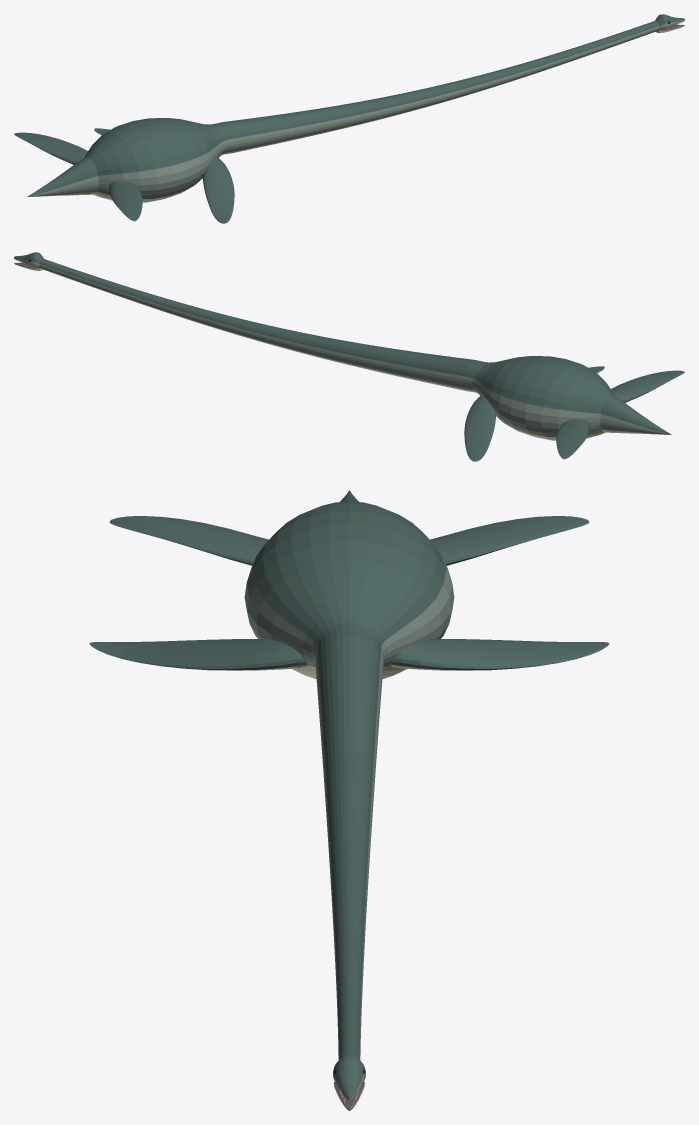
The picture shows the model from 3 angles, top to bottom: view 1: azimuth 30°, elevation 25°; view 2: azimuth 150°, elevation 25°; view 3: azimuth 270°, elevation 25°; orthographic projection. The views are drawn at different scales.
Parts seen in each view (by area): view 1: Extreme_neck_short_broad_trunk_and_conservative_tail, Comparatively_inferred_fore_hydrofoil_near, Comparatively_inferred_hind_hydrofoil_far, Comparatively_inferred_hind_hydrofoil_near; view 2: Extreme_neck_short_broad_trunk_and_conservative_tail, Comparatively_inferred_fore_hydrofoil_far, Comparatively_inferred_hind_hydrofoil_near, Comparatively_inferred_hind_hydrofoil_far; view 3: Extreme_neck_short_broad_trunk_and_conservative_tail, Comparatively_inferred_fore_hydrofoil_far, Comparatively_inferred_fore_hydrofoil_near, Comparatively_inferred_hind_hydrofoil_far, Comparatively_inferred_hind_hydrofoil_near.
Boxes of the visible parts, x1,y1,x2,y2 form: Extreme_neck_short_broad_trunk_and_conservative_tail: [27, 14, 684, 202]; Comparatively_inferred_fore_hydrofoil_near: [202, 157, 234, 223]; Comparatively_inferred_hind_hydrofoil_far: [14, 132, 87, 164]; Comparatively_inferred_hind_hydrofoil_near: [109, 181, 142, 221]; Extreme_neck_short_broad_trunk_and_conservative_tail: [14, 252, 671, 440]; Comparatively_inferred_fore_hydrofoil_far: [464, 395, 496, 461]; Comparatively_inferred_hind_hydrofoil_near: [611, 370, 684, 402]; Comparatively_inferred_hind_hydrofoil_far: [556, 419, 589, 459]; Extreme_neck_short_broad_trunk_and_conservative_tail: [244, 490, 454, 1100]; Comparatively_inferred_fore_hydrofoil_far: [391, 639, 609, 670]; Comparatively_inferred_fore_hydrofoil_near: [89, 639, 307, 670]; Comparatively_inferred_hind_hydrofoil_far: [430, 516, 589, 565]; Comparatively_inferred_hind_hydrofoil_near: [109, 516, 268, 565].
Size of the model in its own units: 10.5 by 1.05 by 3.6.
